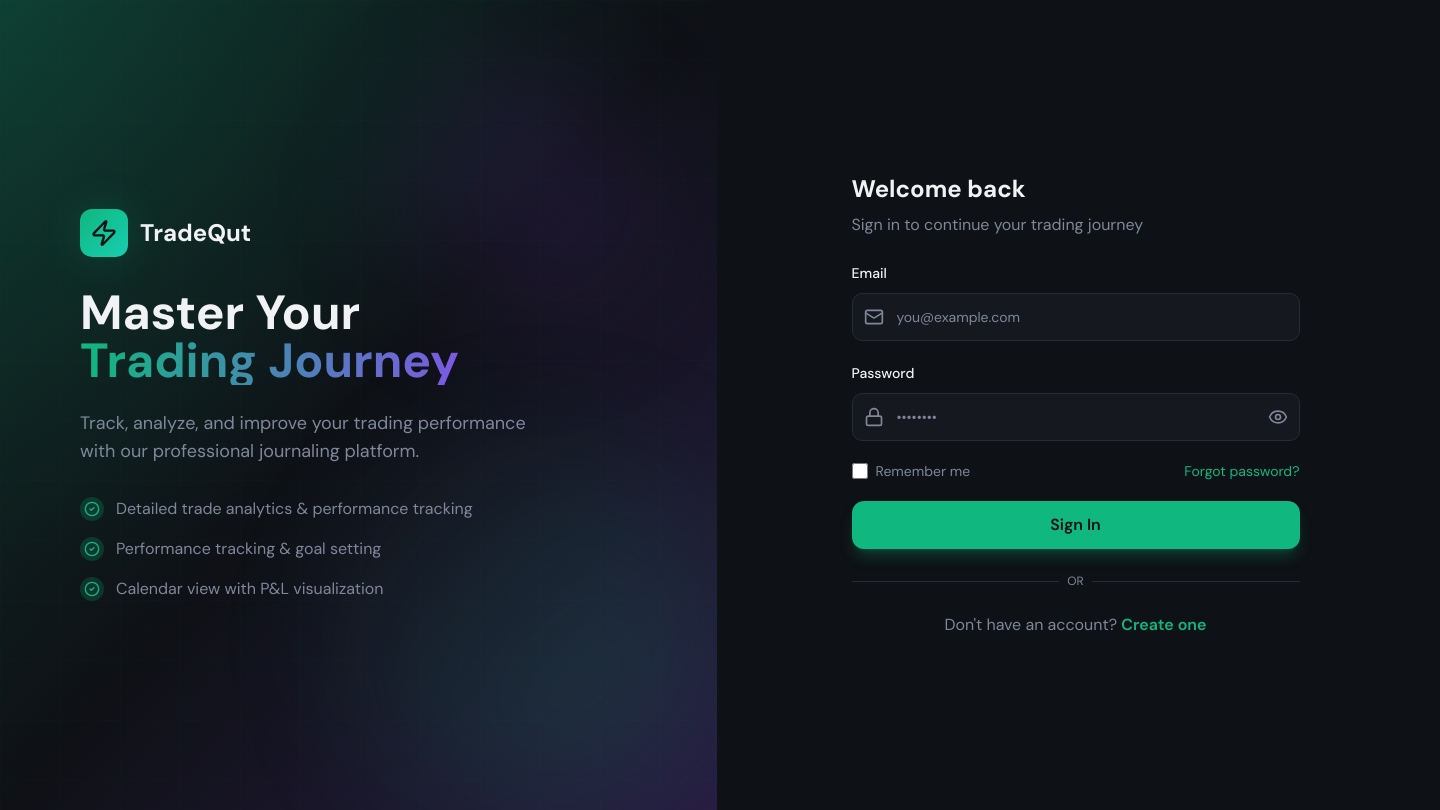
Test: AuthPage › Login View › navigates to forgot password view
Click the button "Forgot password?": (1242, 471) [1184,461,1300,481]
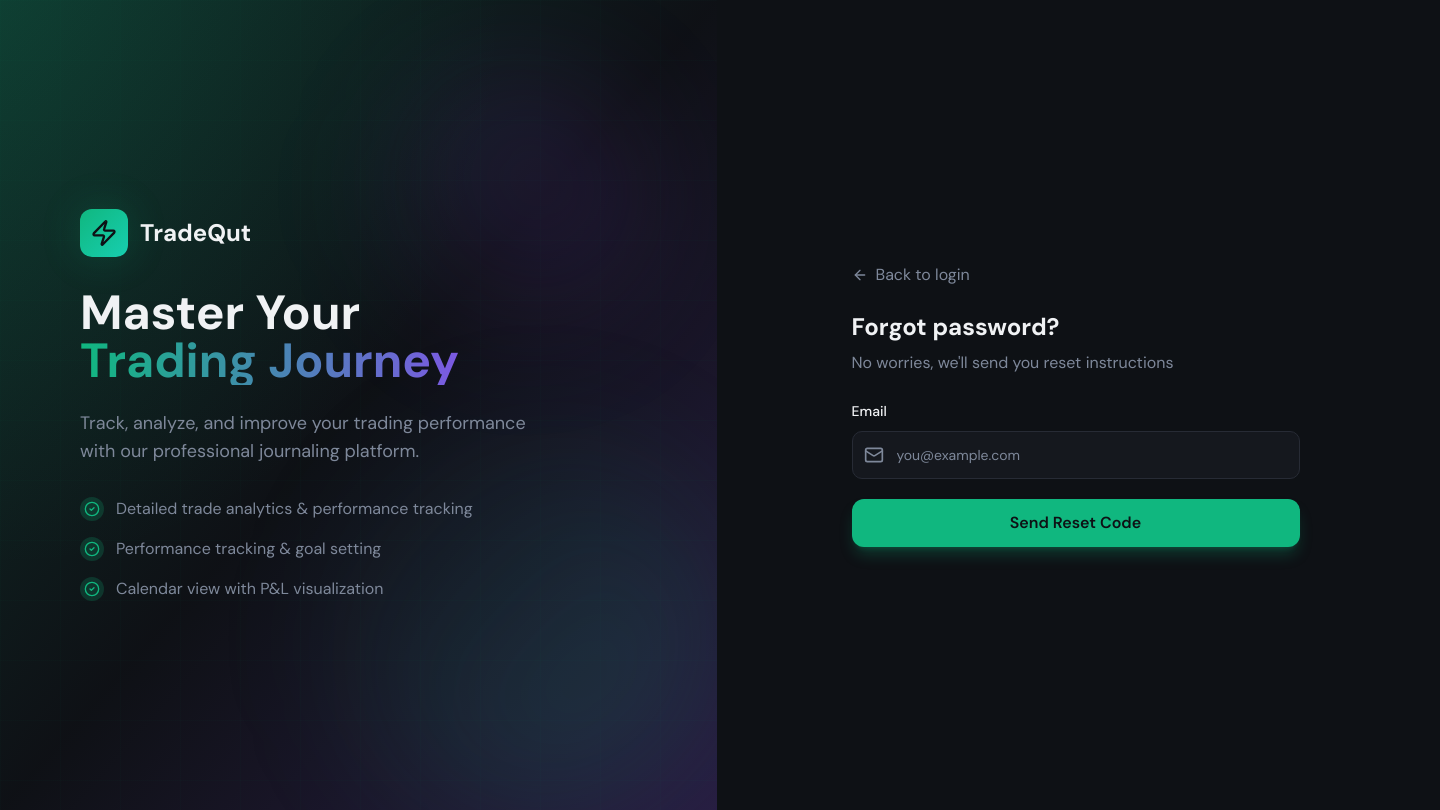
Now the heading "Forgot password?" is shown, box [852,311,1060,342]
